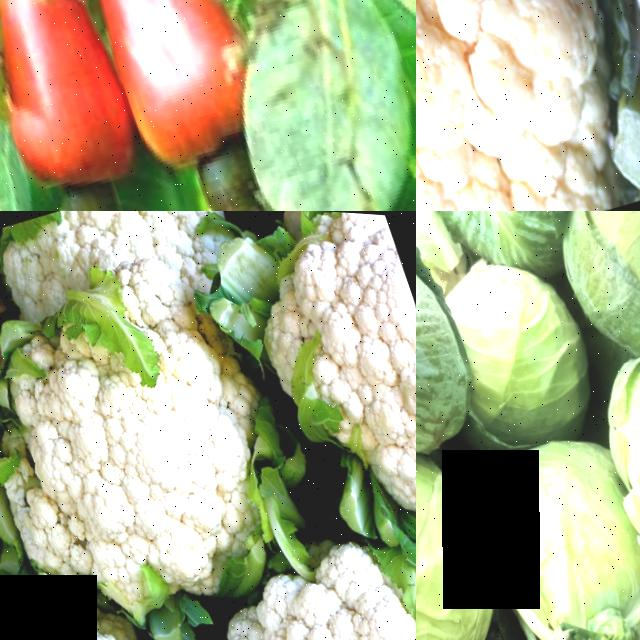cabbage: (454, 426, 640, 640), (416, 250, 595, 450), (416, 438, 515, 640), (533, 211, 640, 377), (416, 226, 486, 469)
cashew: (152, 129, 287, 211), (44, 163, 144, 211)
cauliflower: (0, 247, 334, 640), (228, 211, 416, 534), (416, 0, 640, 211), (152, 481, 416, 640)
